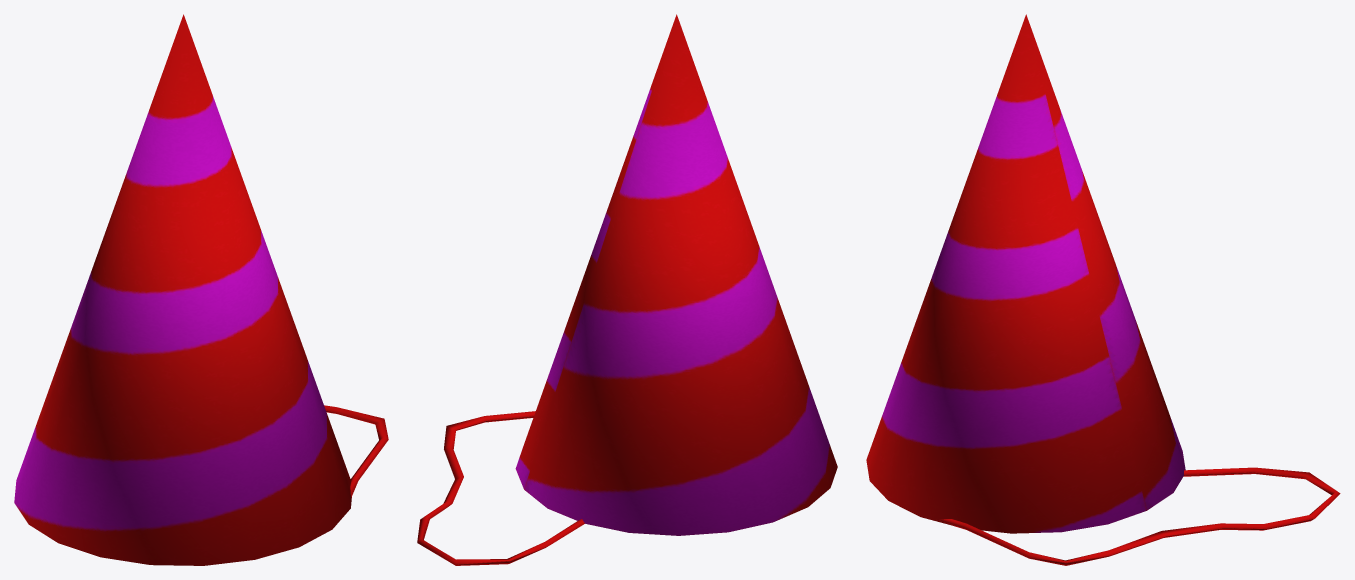
File: partyhat6_reference_004.fbx
The picture shows the model from 3 angles, left to right: view 1: azimuth 30°, elevation 25°; view 2: azimuth 150°, elevation 25°; view 3: azimuth 270°, elevation 25°; orthographic projection. The views are drawn at different scales.
Visible parts, largest first — view 1: partyhat6_reference.004; view 2: partyhat6_reference.004; view 3: partyhat6_reference.004.
Boxes of the visible parts, x1,y1,x2,y2 form: partyhat6_reference.004: (14, 14, 388, 565); partyhat6_reference.004: (417, 14, 837, 565); partyhat6_reference.004: (866, 14, 1340, 565).
Size of the model in its own units: 31.59 by 39.53 by 37.32.
